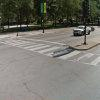Crosswalk: (4, 27, 91, 68)
